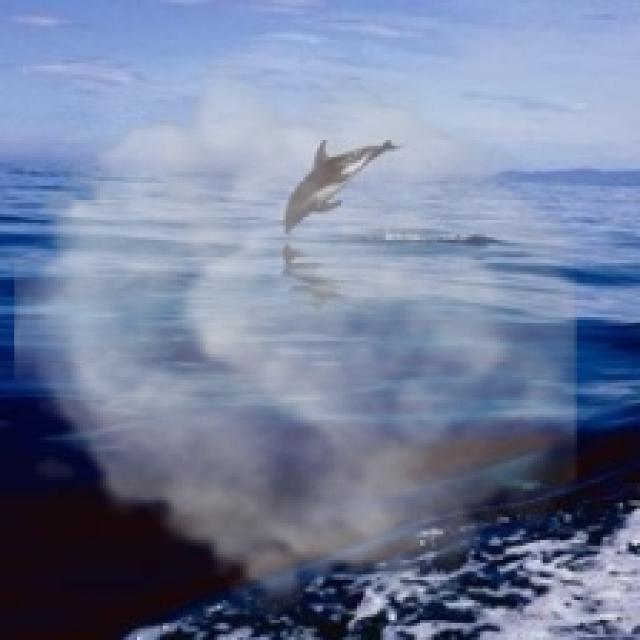Smoke: (14, 57, 577, 620)
